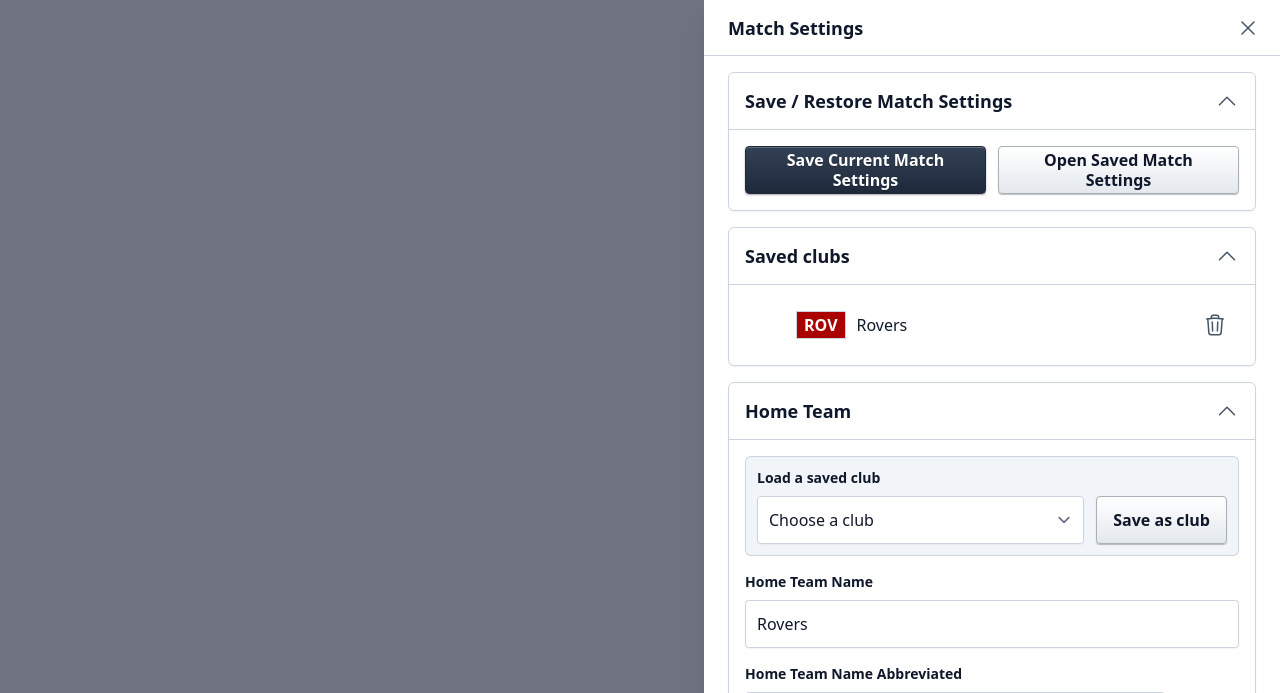
Test: Club presets › saves a team as a club, and saving the same name again updates it
Click the button "Save as club".
click(1162, 520)  # box [1096,496,1227,544]
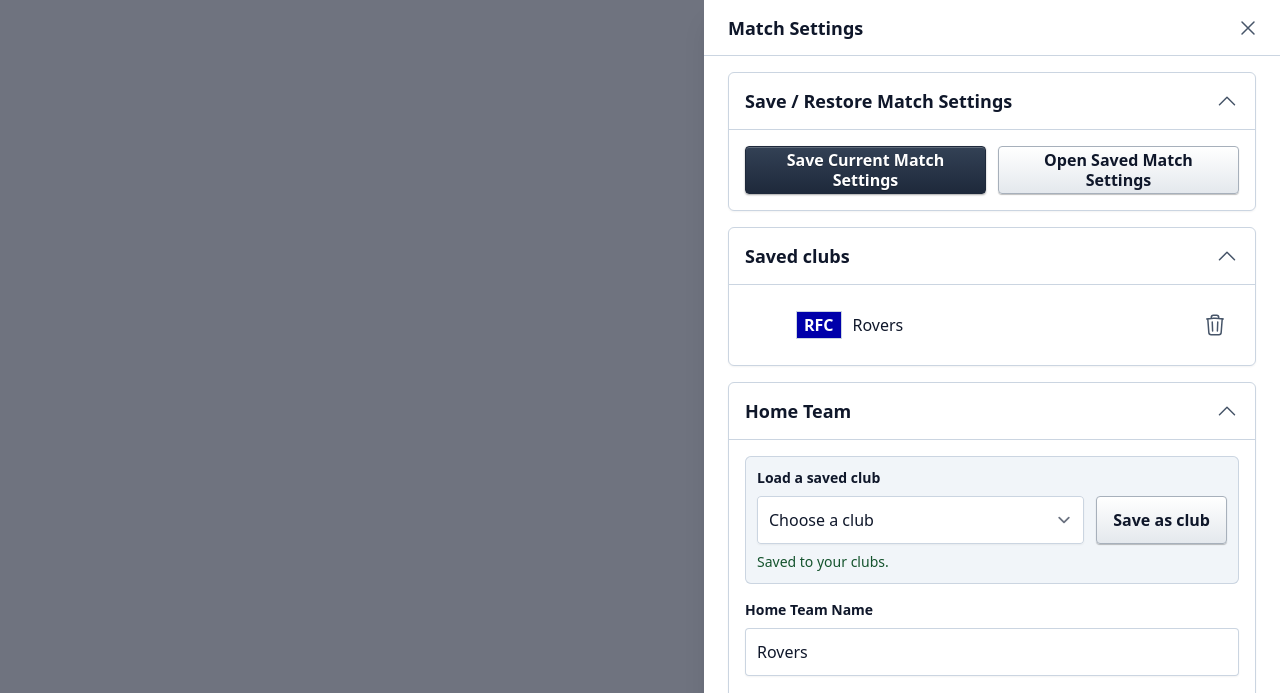
Check: the text "Saved to your clubs." is shown, box [757,552,889,571]
